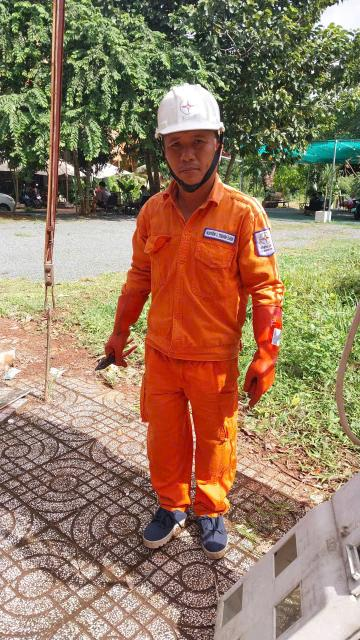gloves: (91, 297, 153, 382), (244, 299, 290, 404)
helmet: (144, 76, 241, 144)
shoes: (183, 505, 241, 558), (142, 490, 187, 548)
